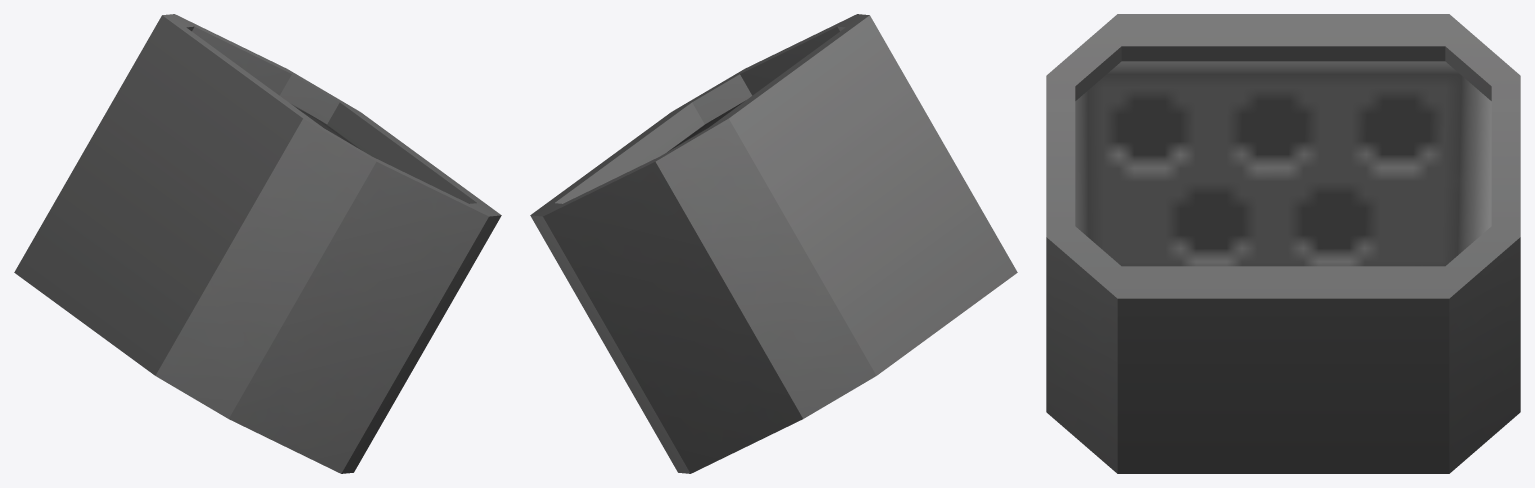
File: RocketLauncher1.fbx
3 renders of one model, left to right at view 1: azimuth 30°, elevation 25°; view 2: azimuth 150°, elevation 25°; view 3: azimuth 270°, elevation 25°, orthographic. The views are drawn at different scales.
Visible parts, largest first — view 1: RocketLauncher1; view 2: RocketLauncher1; view 3: RocketLauncher1.
Boxes of the visible parts, x1,y1,x2,y2 form: RocketLauncher1: [14, 14, 501, 473]; RocketLauncher1: [530, 14, 1017, 473]; RocketLauncher1: [1046, 14, 1520, 473].
Bounding box in the file's own units: 0.4771 × 0.4825 × 0.4813.
